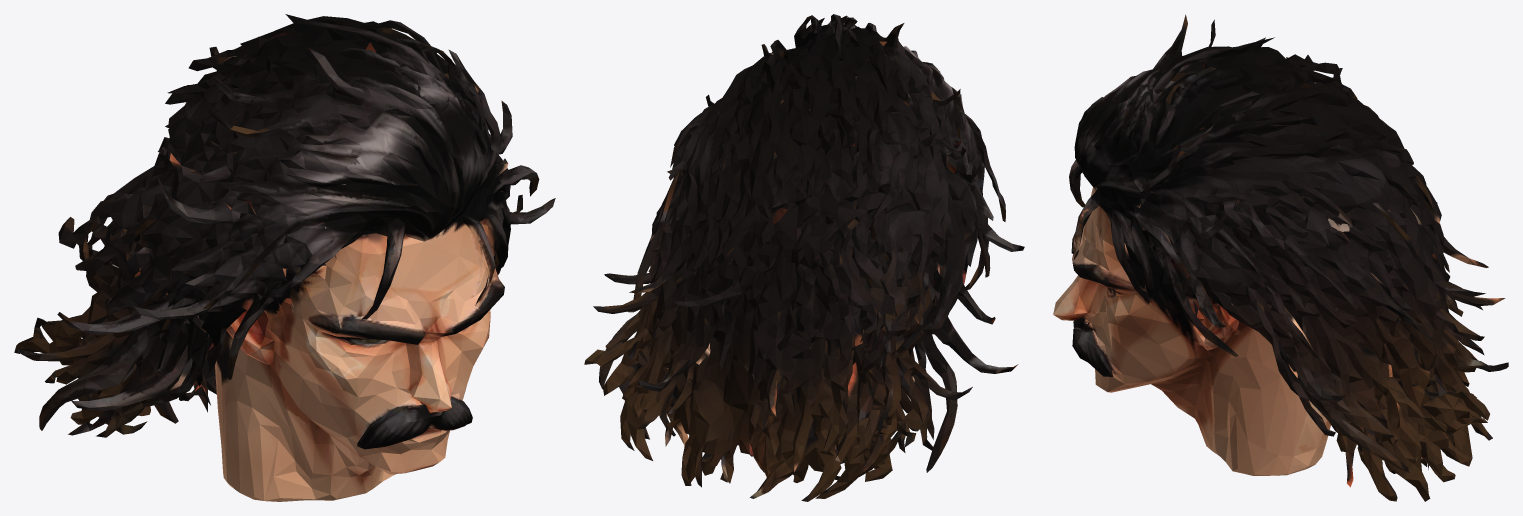
The model's file is side_h_moto_repaired_atlas.glb.
3 views of the same model, side by side, from view 1: azimuth 30°, elevation 25°; view 2: azimuth 150°, elevation 25°; view 3: azimuth 270°, elevation 25° (orthographic). The views are drawn at different scales.
Parts seen in each view (by area): view 1: temp_mesh.ply; view 2: temp_mesh.ply; view 3: temp_mesh.ply.
Part boxes in pixels (left/top/right/bottom): temp_mesh.ply: left=14, top=14, right=555, bottom=501; temp_mesh.ply: left=584, top=14, right=1024, bottom=501; temp_mesh.ply: left=1053, top=14, right=1508, bottom=501.
Size of the model in its own units: 1.4 by 1.37 by 1.38.
1 material, 1 textured.
